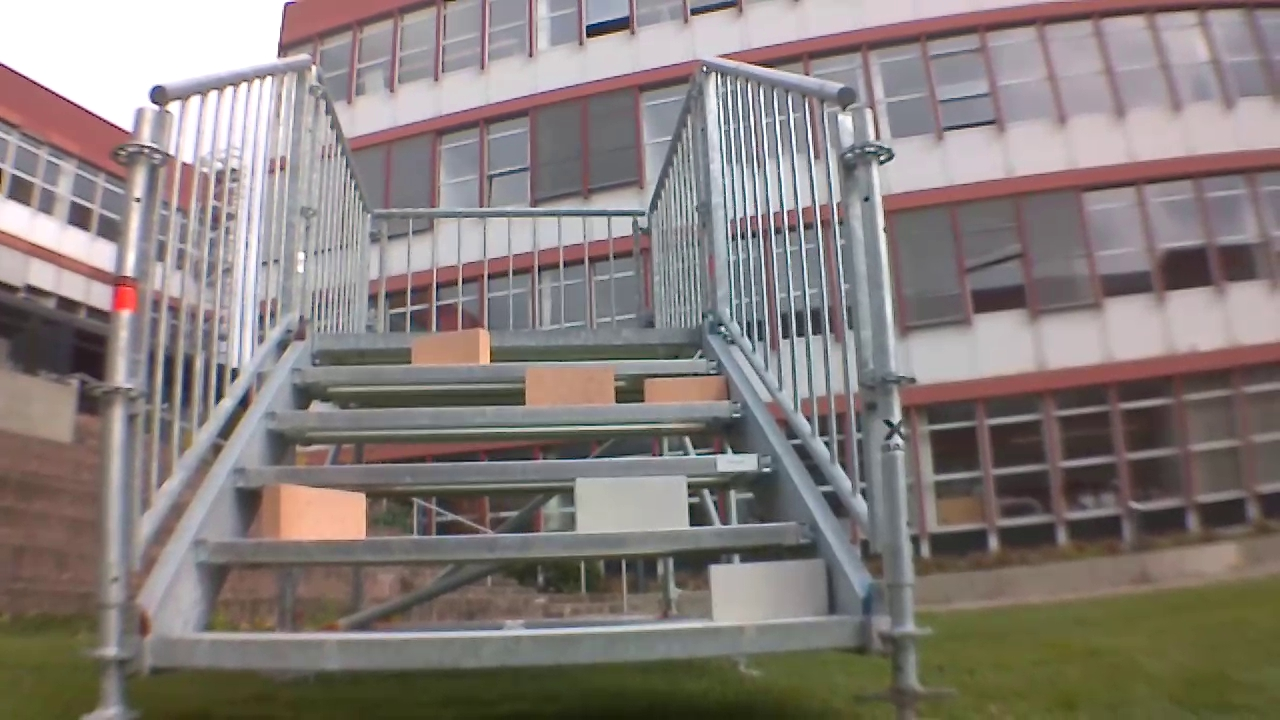brick: (711, 561, 826, 620), (575, 476, 687, 530), (262, 484, 365, 538), (526, 367, 613, 406), (412, 328, 489, 365), (644, 377, 724, 402)
edge: (153, 616, 864, 670), (193, 523, 817, 560), (233, 454, 776, 482), (265, 400, 744, 426), (314, 326, 703, 349), (290, 359, 716, 380)
stairs: (82, 54, 956, 717)
steps: (146, 322, 873, 676)
